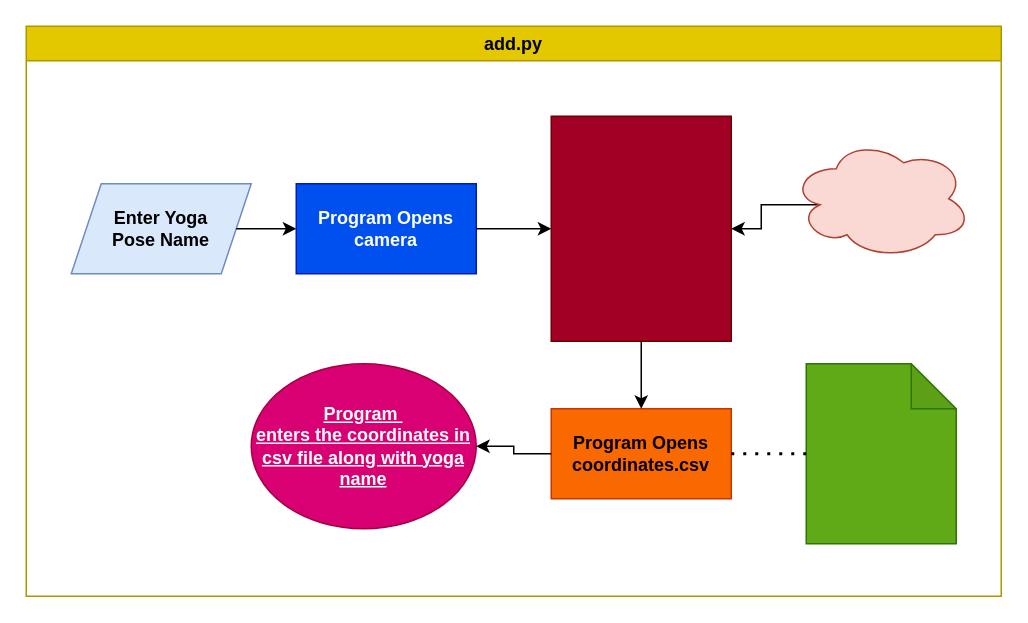
Some shapes in this 1028 by 623 pixel diagram are drawn without their labels. The box of each missing label's shape, as (x1, y1, x2, y2) in pixels:
33 x 4 readings are captured: (790, 137, 971, 259)
Camera Captures Landmark keypoints of Yoga Pose Using MediaPipe Holistic Model: (550, 115, 731, 341)
coordinates.csv: (805, 362, 956, 544)
